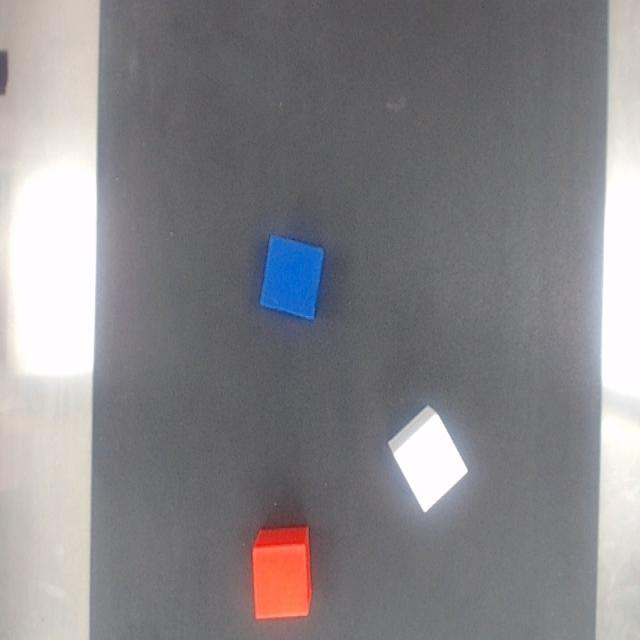Azul: (260, 235, 323, 320)
Blanco: (388, 407, 467, 511)
Rojo: (251, 527, 311, 620)
